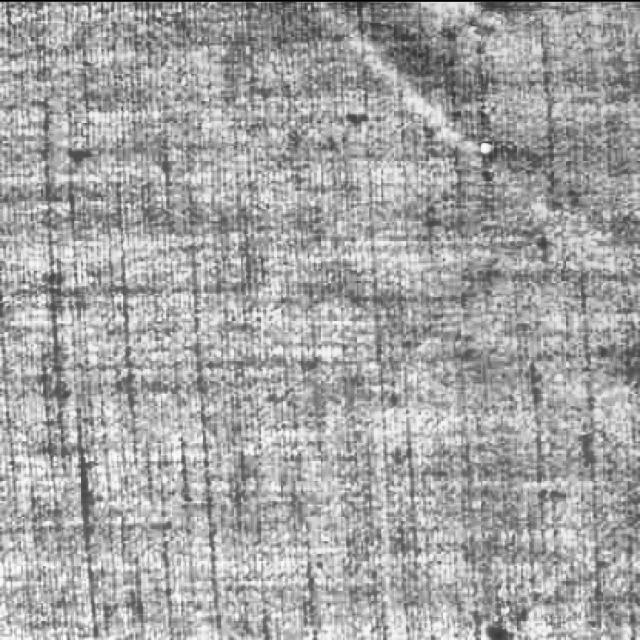hole: (473, 134, 501, 162)
